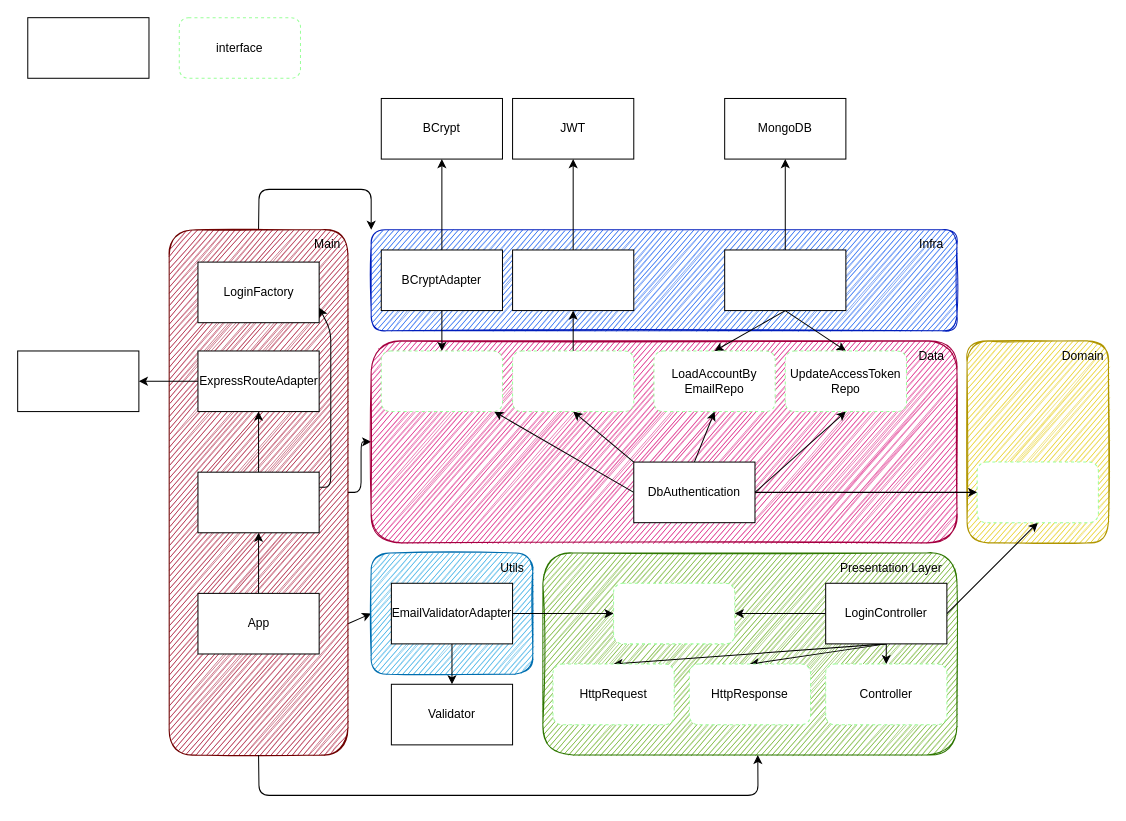
Image size: 1126x821. Some labels were removed from this diagram. The shapes that lost their labels are listed below. From the top down, each one's box as (x1, y1, x2, y2) in pixels, then its label:
(27, 17, 149, 78): Implementation
(512, 249, 634, 311): JwtAdapter
(724, 249, 846, 311): AccountMongoRepo
(17, 350, 139, 412): Express
(380, 350, 502, 412): HashComparer
(512, 350, 634, 412): Encrypter
(197, 471, 319, 533): LoginRouter
(976, 461, 1098, 523): Authentication
(613, 582, 735, 644): EmailValidator
